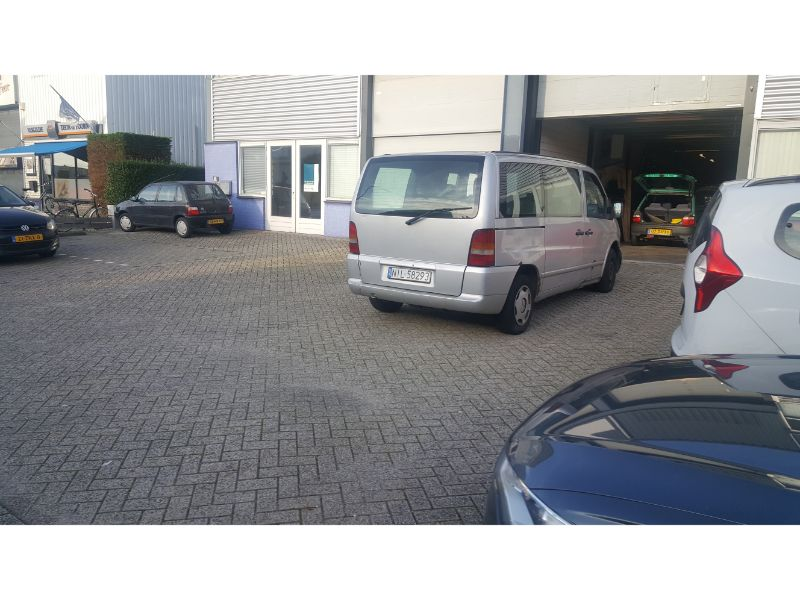kenteken: (386, 266, 434, 284), (11, 233, 43, 242), (207, 218, 226, 224)
